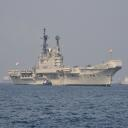Portanaves: (8, 28, 123, 89)
